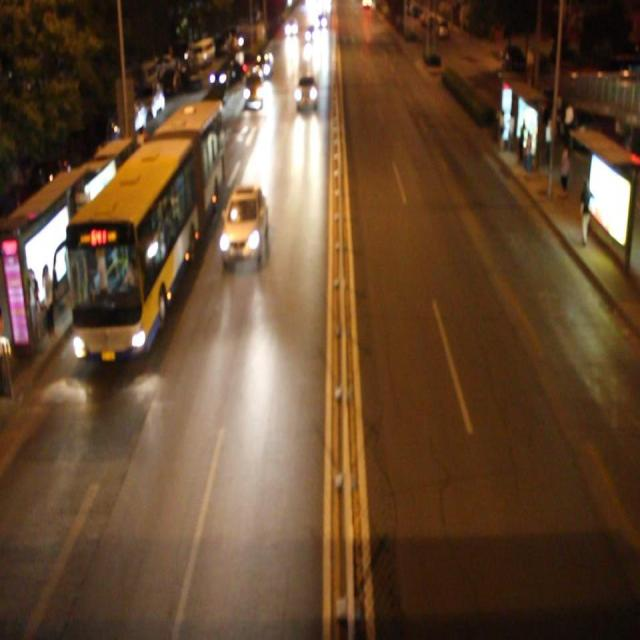car: (220, 186, 268, 262), (294, 74, 318, 112), (254, 50, 274, 77)
truck: (243, 68, 264, 104)
van: (72, 101, 220, 359)
